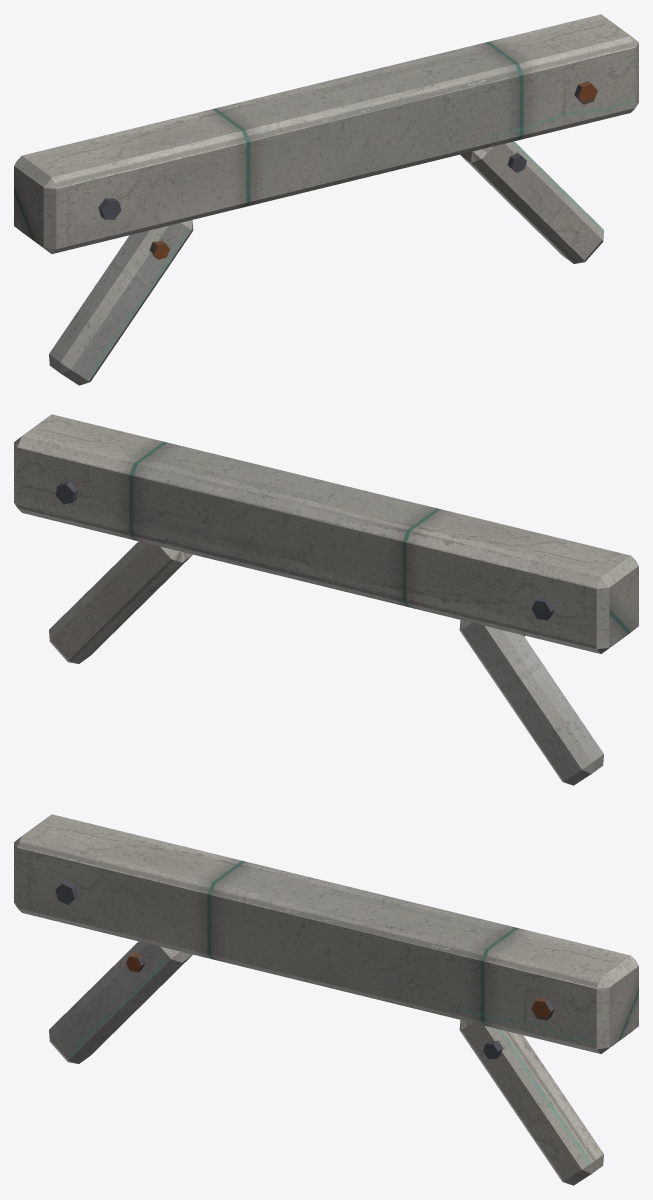
File: kiris.glb
The picture shows the model from 3 angles, top to bottom: view 1: azimuth 30°, elevation 25°; view 2: azimuth 150°, elevation 25°; view 3: azimuth 330°, elevation 25°; orthographic projection.
Parts seen in each view (by area): view 1: kiris; view 2: kiris; view 3: kiris.
Boxes of the visible parts, <box> form: kiris: <box>14,14,638,385</box>; kiris: <box>14,414,638,785</box>; kiris: <box>14,814,638,1185</box>.
Size of the model in its own units: 3 by 1.08 by 0.41.
Materials: 1 (1 with a texture image).
